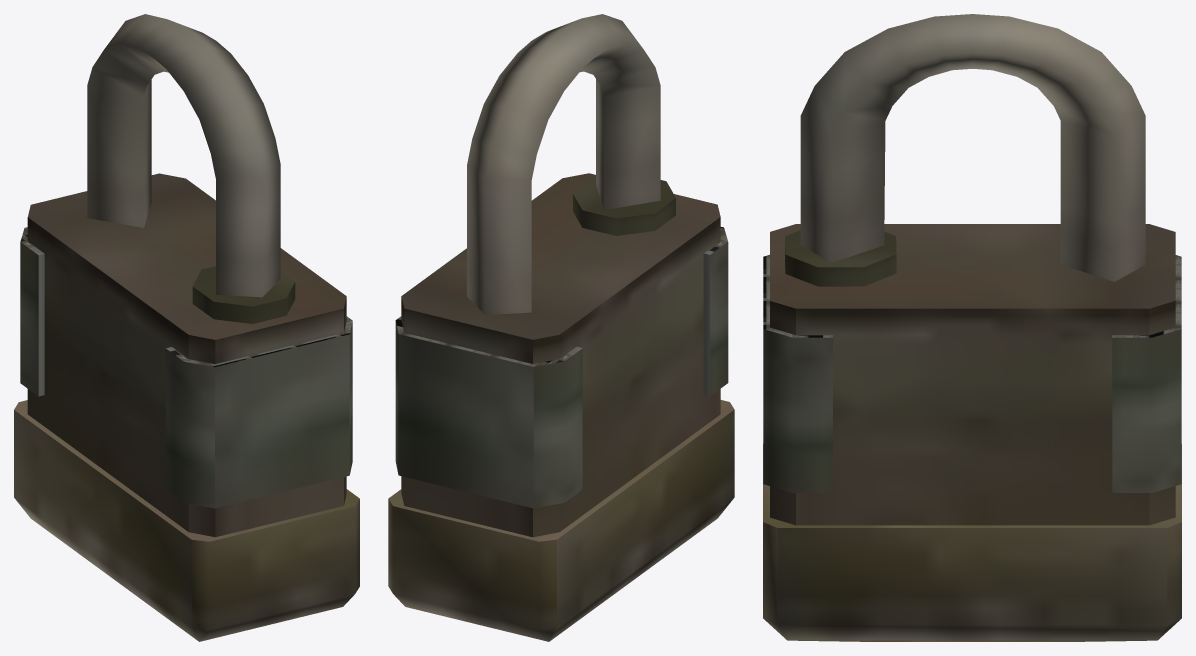
The model's file is prison_padlock001a.glb.
3 views of the same model, side by side, from view 1: azimuth 30°, elevation 25°; view 2: azimuth 150°, elevation 25°; view 3: azimuth 270°, elevation 25° (orthographic). The views are drawn at different scales.
Parts seen in each view (by area): view 1: 0_prison_objects003; view 2: 0_prison_objects003; view 3: 0_prison_objects003.
Boxes of the visible parts, x1=… form: 0_prison_objects003: x1=14, y1=14, x2=359, y2=641; 0_prison_objects003: x1=388, y1=14, x2=734, y2=641; 0_prison_objects003: x1=763, y1=14, x2=1181, y2=641.
Size of the model in its own units: 0.0959 by 0.2987 by 0.1874.
1 material, 1 textured.
